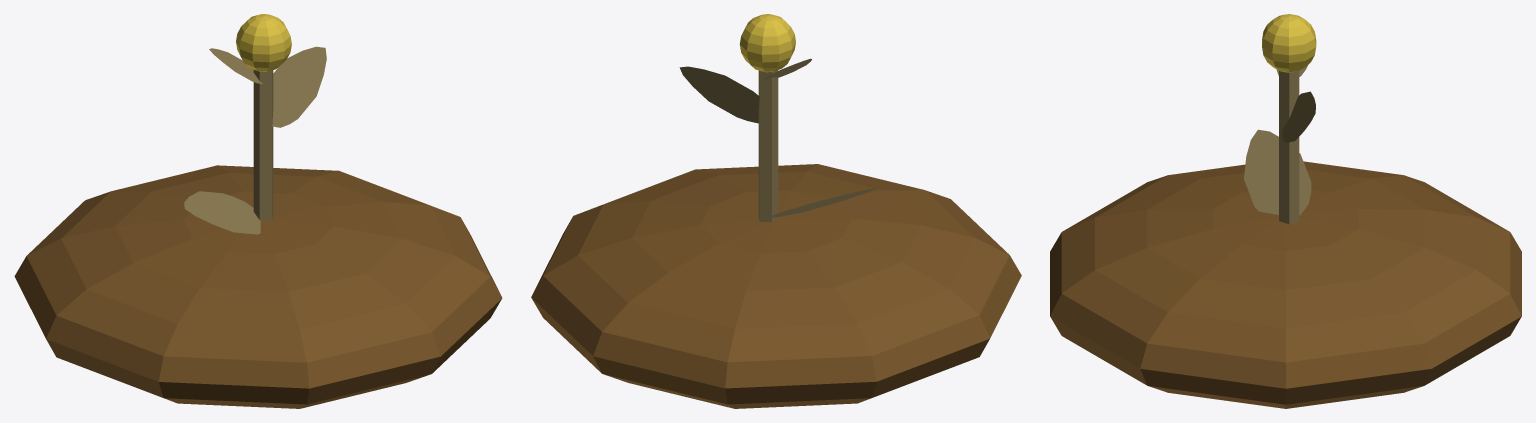
Rendered from Plant_3.fbx.
3 renders of one model, left to right at view 1: azimuth 30°, elevation 25°; view 2: azimuth 150°, elevation 25°; view 3: azimuth 270°, elevation 25°, orthographic.
Parts seen in each view (by area): view 1: Plant3, pPlane3, pCylinder9, Bud, pPlane4, pPlane5; view 2: Plant3, pCylinder9, Bud, pPlane3, pPlane4; view 3: Plant3, pPlane4, pCylinder9, Bud, pPlane3.
Boxes of the visible parts, x1,y1,x2,y2 form: Plant3: (14,165,502,408); pPlane3: (272,46,326,127); pCylinder9: (253,70,273,220); Bud: (236,14,291,71); pPlane4: (184,191,260,234); pPlane5: (209,48,262,84); Plant3: (531,164,1021,408); pCylinder9: (758,70,778,222); Bud: (739,14,795,72); pPlane3: (679,66,759,123); pPlane4: (764,187,877,219); Plant3: (1050,161,1521,408); pPlane4: (1244,129,1311,215); pCylinder9: (1279,71,1299,224); Bud: (1262,14,1316,72); pPlane3: (1282,91,1315,142).
Bounding box in the file's own units: 0.5394 × 0.4072 × 0.513.
